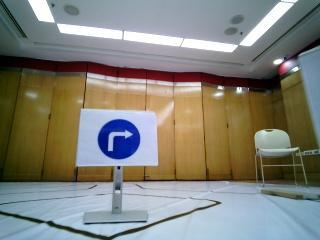right: (82, 107, 153, 166)
